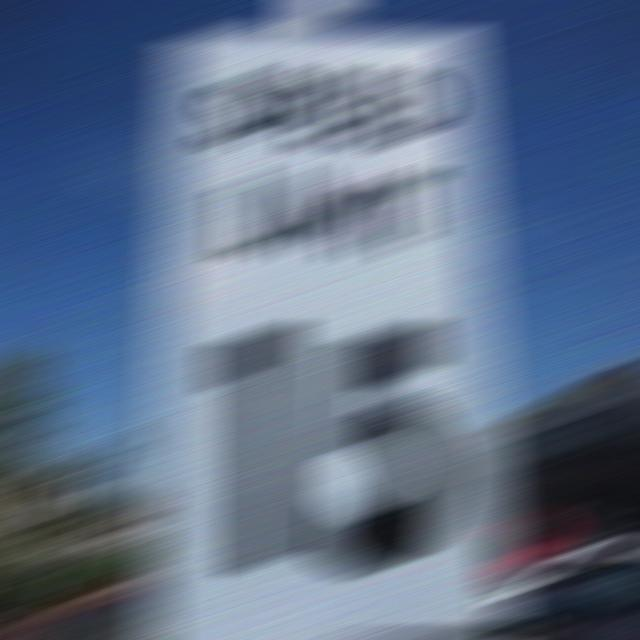speedLimit15: (154, 30, 514, 631)
